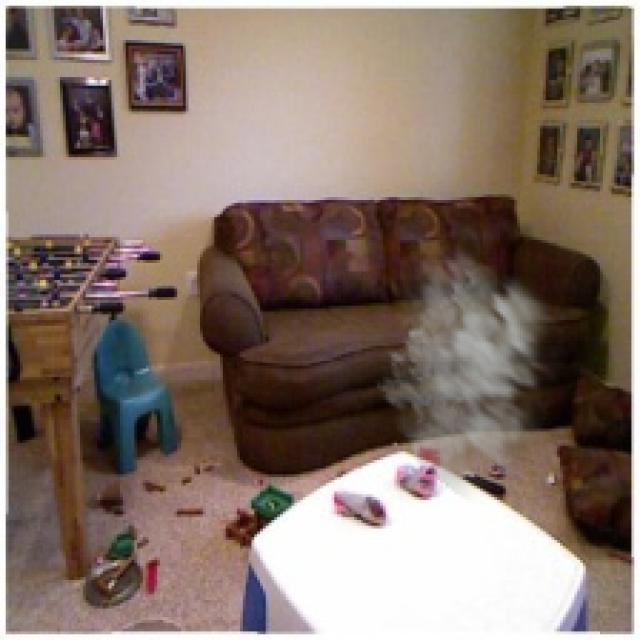smoke: (374, 237, 580, 506)
